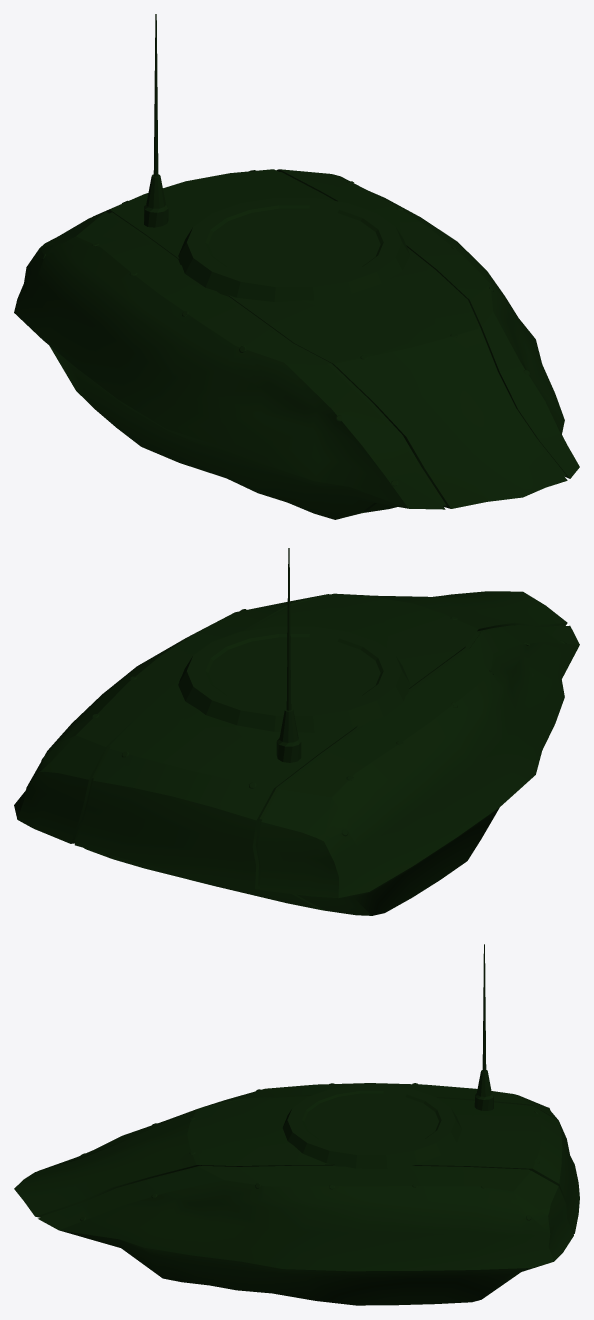
The model's file is Topo_1.fbx.
3 renders of one model, top to bottom at view 1: azimuth 30°, elevation 25°; view 2: azimuth 150°, elevation 25°; view 3: azimuth 270°, elevation 25°, orthographic. The views are drawn at different scales.
Parts seen in each view (by area): view 1: Tanque_Top, Antena; view 2: Tanque_Top, Antena; view 3: Tanque_Top, Antena.
Boxes of the visible parts, x1=… form: Tanque_Top: x1=14, y1=169, x2=579, y2=519; Antena: x1=144, y1=14, x2=168, y2=227; Tanque_Top: x1=14, y1=591, x2=579, y2=915; Antena: x1=276, y1=548, x2=301, y2=762; Tanque_Top: x1=14, y1=1083, x2=579, y2=1305; Antena: x1=474, y1=944, x2=493, y2=1110.
Bounding box in the file's own units: 284 × 248 × 466.
